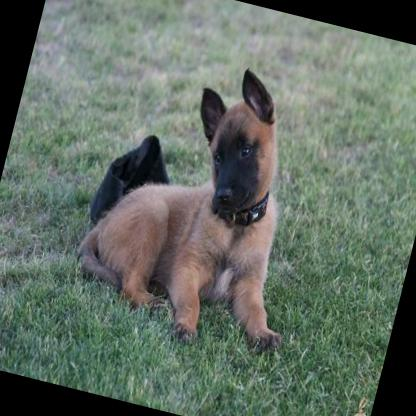malinois: (61, 37, 342, 361)
